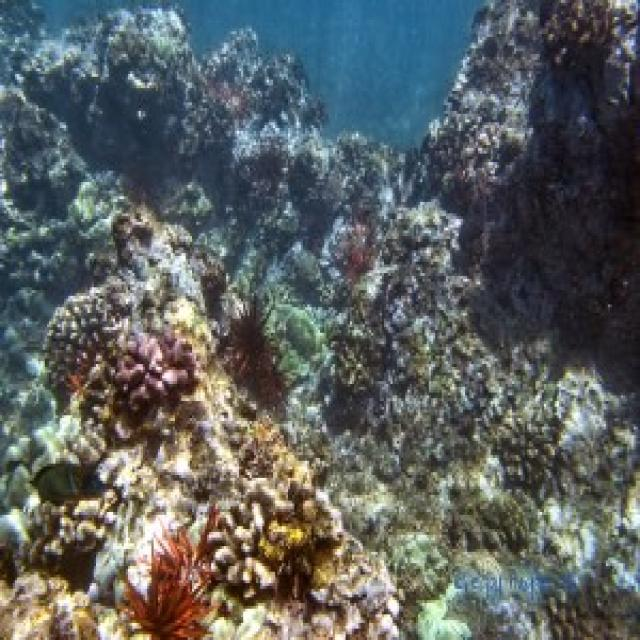Healthy: (118, 422, 394, 638), (332, 203, 519, 487), (500, 371, 618, 496), (127, 510, 216, 638), (48, 280, 133, 394), (103, 325, 197, 425), (167, 300, 229, 431), (475, 490, 536, 550)
